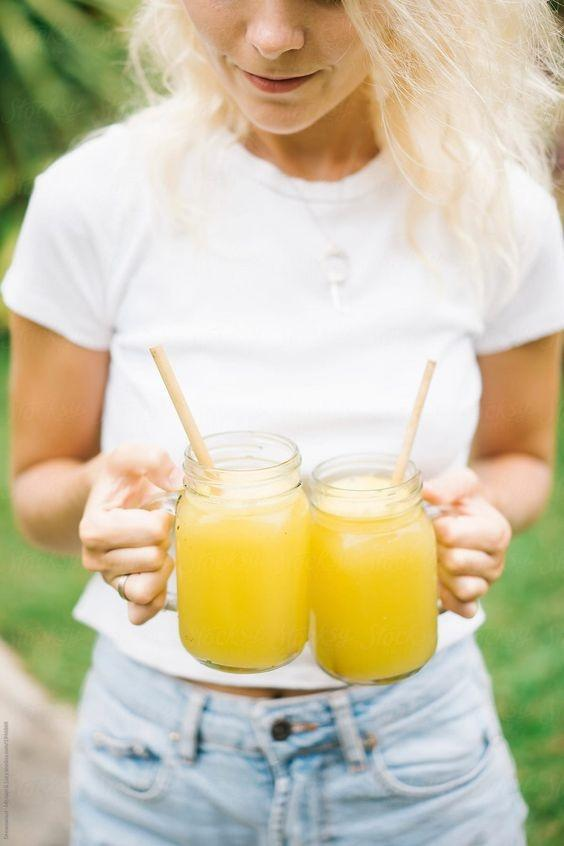glass-mug: (127, 424, 311, 676), (302, 446, 483, 688)
